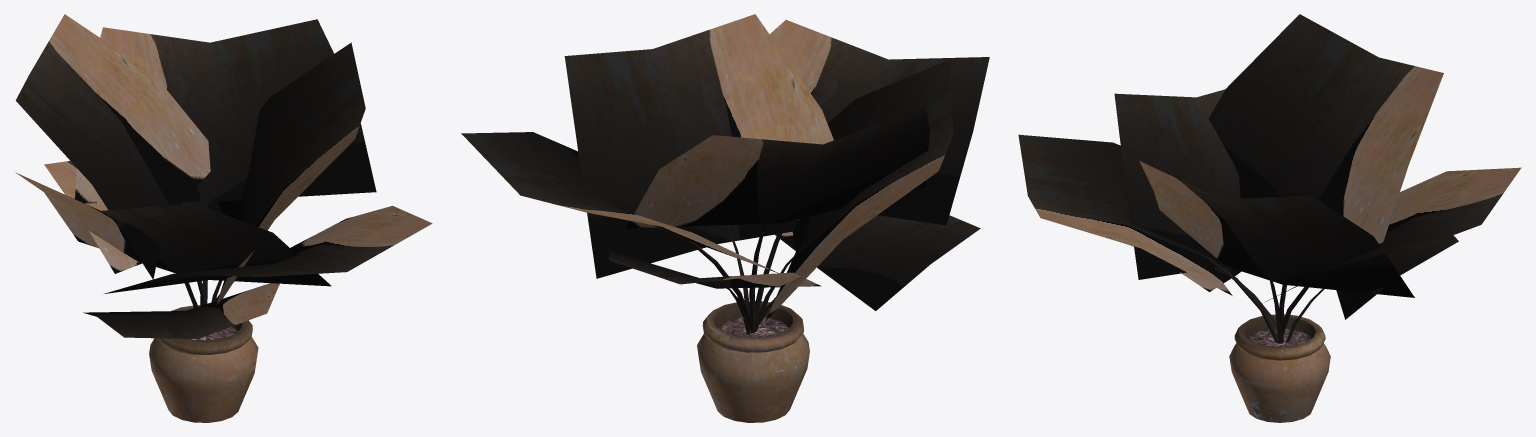
3 renders of one model, left to right at view 1: azimuth 30°, elevation 25°; view 2: azimuth 150°, elevation 25°; view 3: azimuth 270°, elevation 25°, orthographic. The views are drawn at different scales.
Parts seen in each view (by area): view 1: leaves, pot; view 2: leaves, pot; view 3: leaves, pot.
Part boxes in pixels (bbox=[...]): leaves: bbox=[15, 14, 432, 338]; pot: bbox=[149, 305, 258, 422]; leaves: bbox=[461, 14, 989, 334]; pot: bbox=[697, 301, 809, 422]; leaves: bbox=[1018, 14, 1521, 343]; pot: bbox=[1229, 314, 1330, 422].
Bounding box in the file's own units: 80.64 × 69.04 × 99.82.
